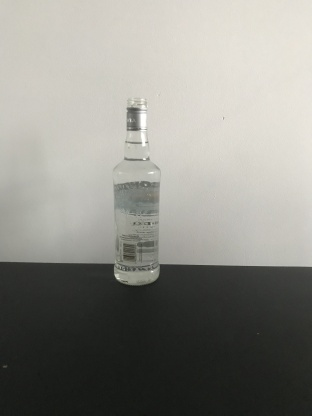nakretka: (124, 94, 149, 132)
